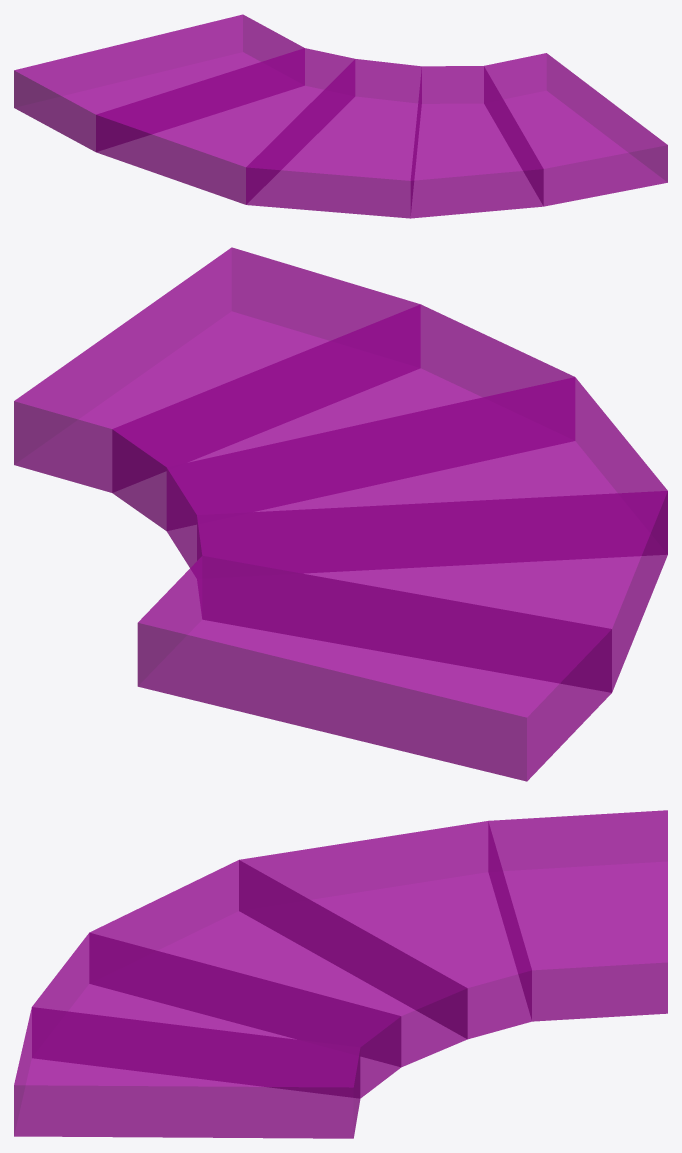
File: SM_Prop_Pipe_Bend_07_Collision.fbx
3 renders of one model, top to bottom at view 1: azimuth 30°, elevation 25°; view 2: azimuth 150°, elevation 25°; view 3: azimuth 270°, elevation 25°, orthographic. The views are drawn at different scales.
Parts seen in each view (by area): view 1: SM_Prop_Pipe_Bend_07_Collision; view 2: SM_Prop_Pipe_Bend_07_Collision; view 3: SM_Prop_Pipe_Bend_07_Collision.
Part boxes in pixels (left/top/right/bottom): SM_Prop_Pipe_Bend_07_Collision: left=14, top=14, right=667, bottom=218; SM_Prop_Pipe_Bend_07_Collision: left=14, top=247, right=667, bottom=781; SM_Prop_Pipe_Bend_07_Collision: left=14, top=810, right=667, bottom=1138.
Bounding box in the file's own units: 178 × 15.3 × 177.
